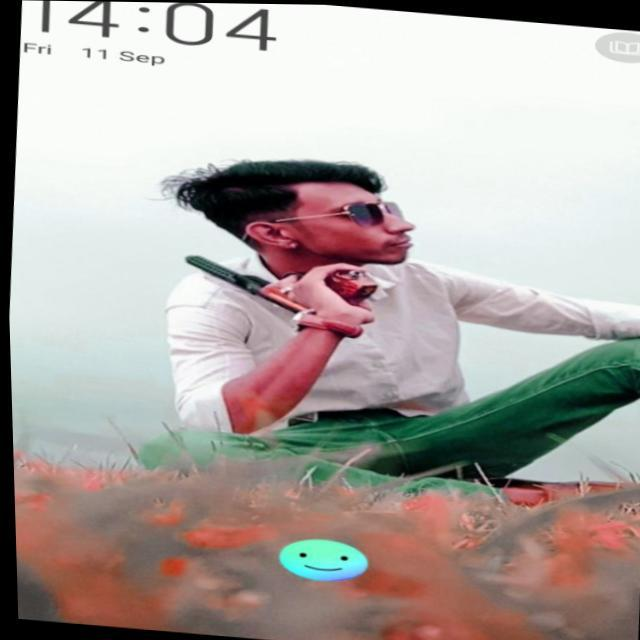weapon: (176, 251, 381, 322)
